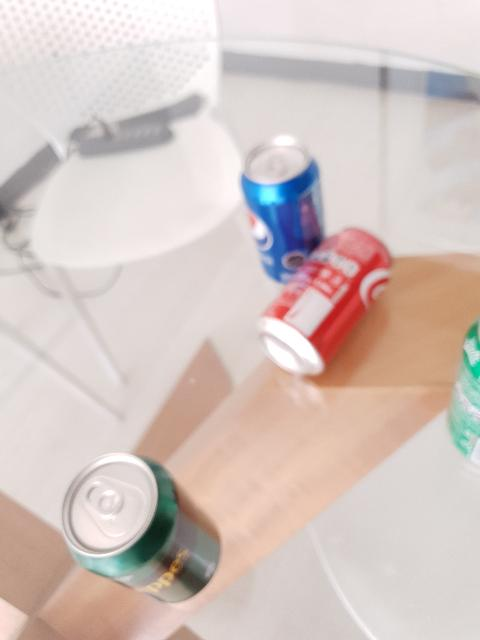coke: (253, 226, 399, 374)
pepsi: (240, 137, 328, 283)
schweppes: (57, 451, 228, 597)
sprite: (454, 313, 480, 465)
